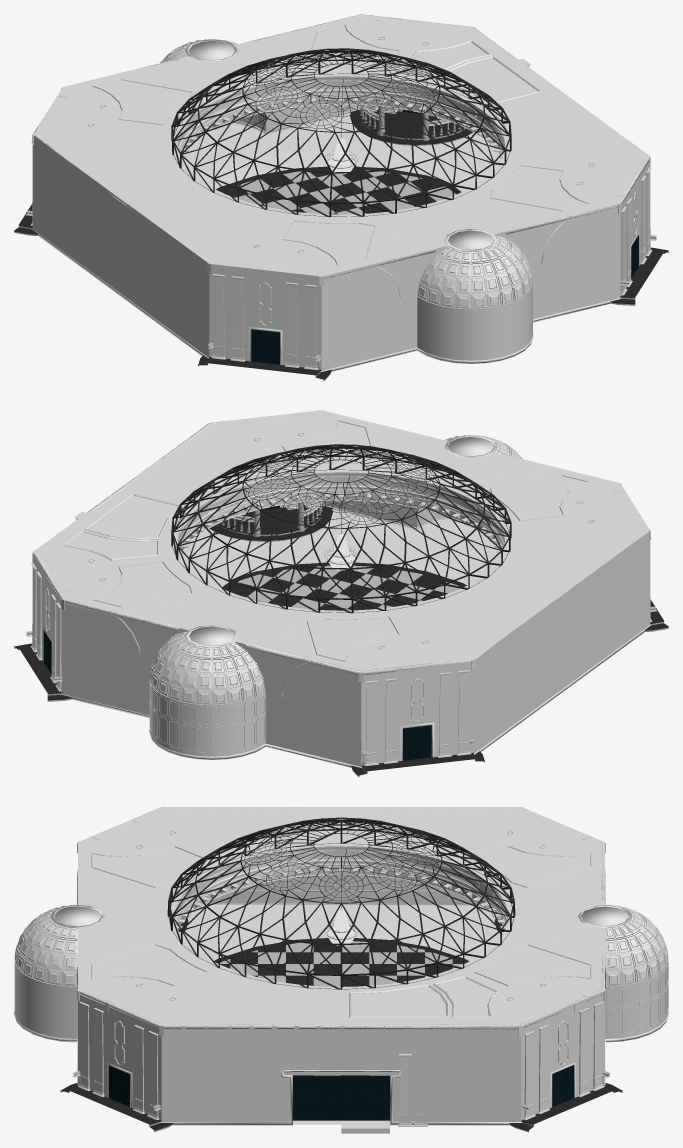
Rendered from GLB_003.glb.
The picture shows the model from 3 angles, top to bottom: view 1: azimuth 30°, elevation 25°; view 2: azimuth 150°, elevation 25°; view 3: azimuth 270°, elevation 25°; orthographic projection.
Parts seen in each view (by area): view 1: External_Walls, Roof_001, Circle.046, Circle.026, Circle.034, Small_Side_Domes, Quarter_Columns, Circle.027, Circle.035, Floor_Trimming, Circle.036, Circle.052 (+10 smaller); view 2: External_Walls, Roof_001, Circle.034, Circle.046, Circle.026, Small_Side_Domes, Quarter_Columns, Circle.027, Floor_Trimming, Plane.097, Circle.036, Circle.057 (+10 smaller); view 3: External_Walls, Roof_001, Circle.034, Circle.026, Small_Side_Domes, Circle.046, Quarter_Columns, Main_Enrance, Floor_Trimming, Circle.035, Plane.097, Circle.052 (+12 smaller).
Part boxes in pixels (x1,y1,x2,y2): External_Walls: [32, 14, 650, 370]; Roof_001: [171, 48, 511, 217]; Circle.046: [174, 75, 508, 215]; Circle.026: [216, 166, 461, 214]; Circle.034: [181, 114, 501, 332]; Small_Side_Domes: [160, 39, 532, 309]; Quarter_Columns: [30, 105, 652, 370]; Circle.027: [14, 108, 668, 381]; Circle.035: [195, 149, 486, 191]; Floor_Trimming: [32, 108, 639, 371]; Circle.036: [179, 95, 503, 154]; Circle.052: [92, 24, 590, 265]; External_Walls: [32, 410, 650, 766]; Roof_001: [171, 444, 511, 613]; Circle.034: [182, 510, 501, 728]; Circle.046: [175, 471, 508, 611]; Circle.026: [221, 562, 466, 610]; Small_Side_Domes: [150, 435, 522, 705]; Quarter_Columns: [30, 501, 652, 766]; Circle.027: [14, 504, 668, 777]; Floor_Trimming: [43, 504, 650, 767]; Plane.097: [33, 411, 621, 675]; Circle.036: [180, 491, 503, 550]; Circle.057: [149, 681, 265, 753]; External_Walls: [14, 807, 668, 1121]; Roof_001: [167, 817, 515, 989]; Circle.034: [182, 906, 500, 1124]; Circle.026: [214, 938, 469, 1075]; Small_Side_Domes: [14, 904, 668, 987]; Circle.046: [171, 845, 511, 987]; Quarter_Columns: [78, 1002, 604, 1120]; Main_Enrance: [292, 1075, 390, 1120]; Floor_Trimming: [14, 903, 668, 1125]; Circle.035: [341, 921, 490, 1133]; Plane.097: [78, 807, 604, 1029]; Circle.052: [91, 845, 591, 986].
Bounding box in the file's own units: 38.56 × 13.12 × 45.46.
